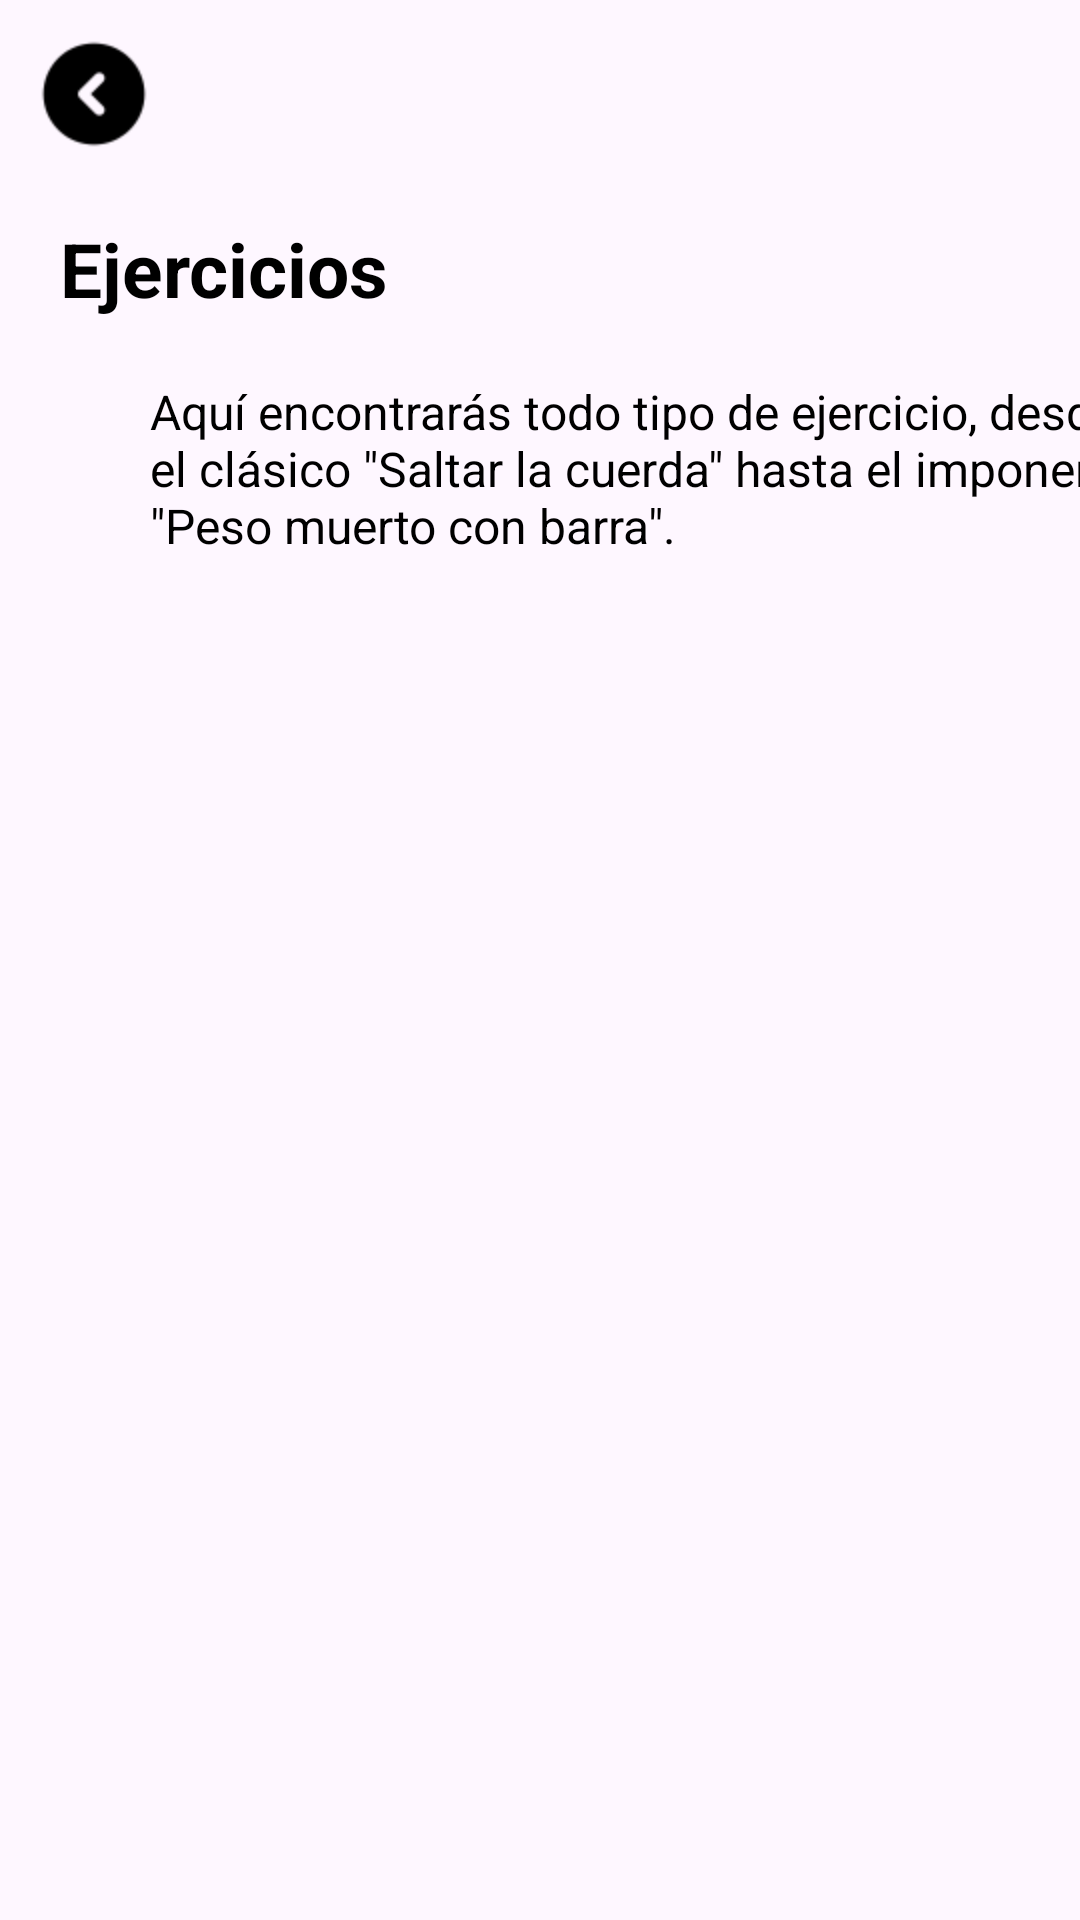

Named icons in this screenshot (1080 × 1920) and their bounding boxes, (left=x1, top=y1, right=x2, bottom=y2):
flecha: (left=42, top=42, right=146, bottom=146)
